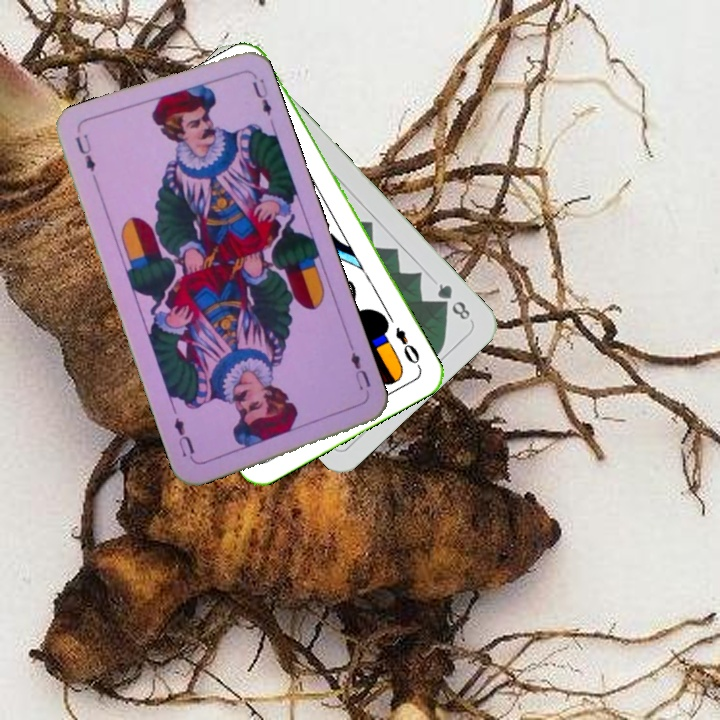EO: (391, 322, 423, 371)
EU: (346, 341, 373, 393), (70, 130, 98, 174)
G8: (433, 279, 473, 323)
